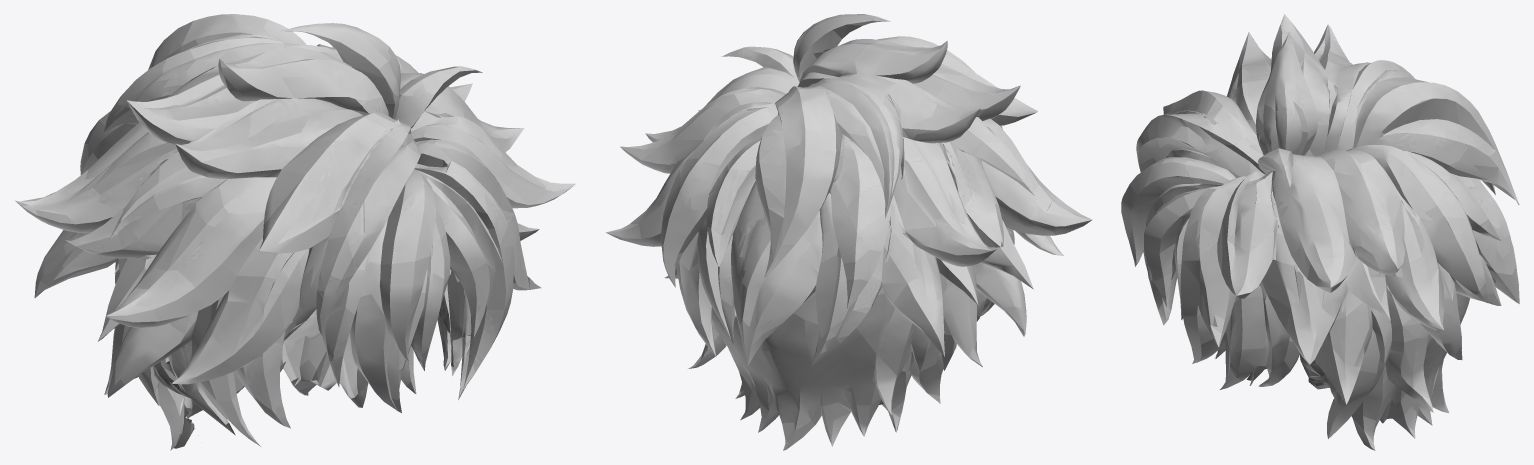
File: hair-spiky.glb
3 renders of one model, left to right at view 1: azimuth 30°, elevation 25°; view 2: azimuth 150°, elevation 25°; view 3: azimuth 270°, elevation 25°, orthographic. The views are drawn at different scales.
Size of the model in its own units: 1.87 by 1.68 by 1.64.
Materials: 1 (1 with a texture image).
